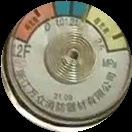green: (55, 2, 91, 21)
red: (12, 4, 56, 43)
yellow: (88, 8, 129, 52)
